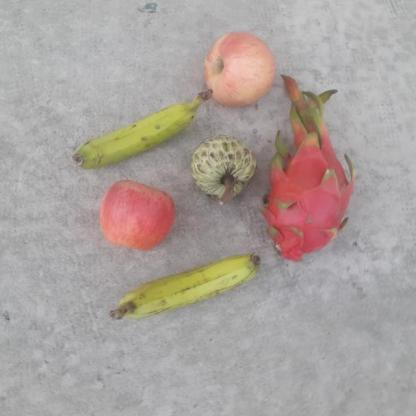annona: (190, 134, 260, 203)
apple: (97, 178, 177, 252), (201, 29, 276, 106)
banana: (72, 89, 215, 170), (110, 253, 260, 320)
pitaya: (261, 126, 360, 262)
